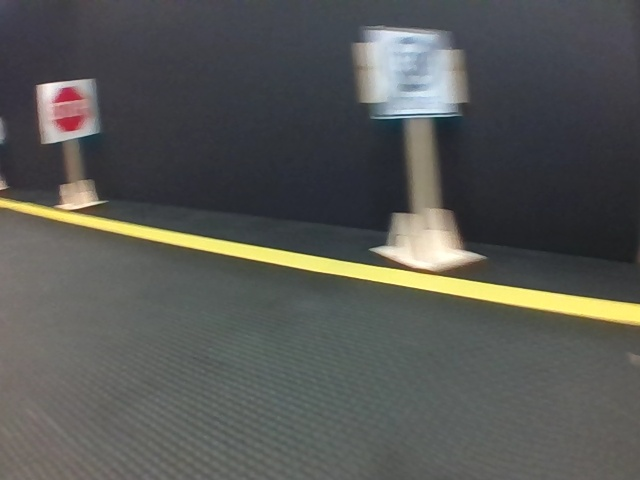no30: (371, 28, 458, 115)
stop: (39, 83, 95, 138)
